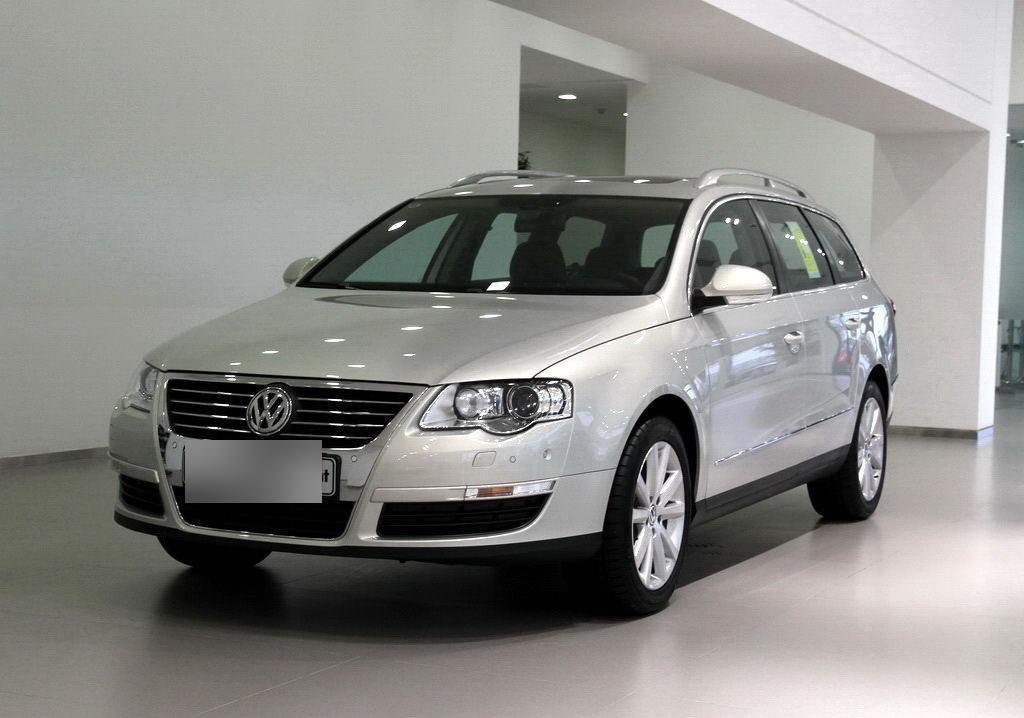Wagon: (106, 170, 900, 610)
